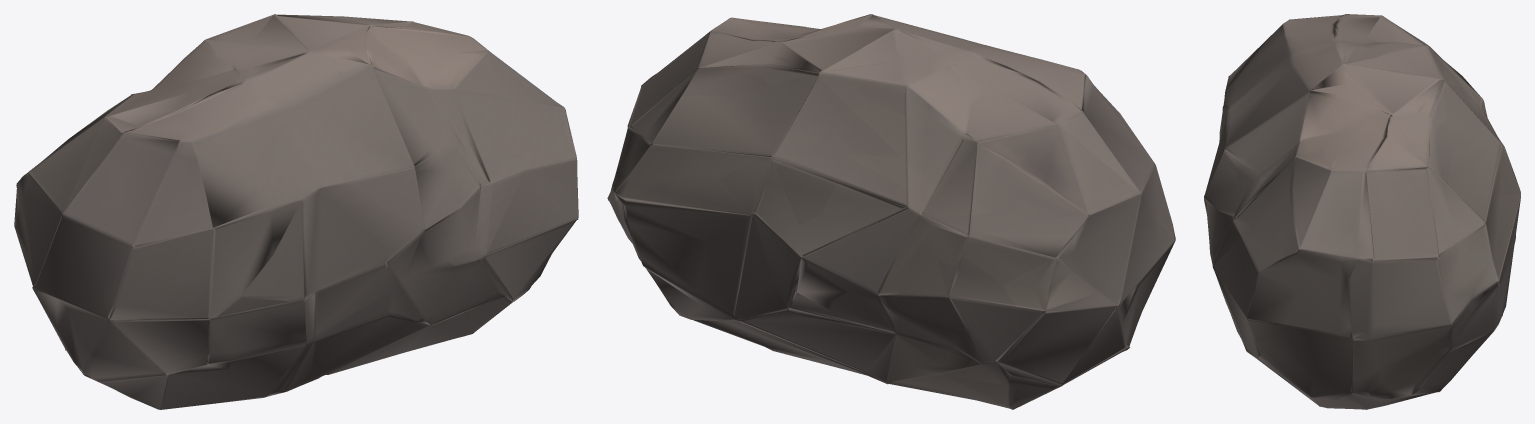
The model's file is Meshy_AI_Faceted_Stone_1022041517_texture.fbx.
3 views of the same model, side by side, from view 1: azimuth 30°, elevation 25°; view 2: azimuth 150°, elevation 25°; view 3: azimuth 270°, elevation 25° (orthographic). The views are drawn at different scales.
Visible parts, largest first — view 1: Mesh_0; view 2: Mesh_0; view 3: Mesh_0.
Boxes of the visible parts, box(x1,y1,x2,y2) form: Mesh_0: box(14, 14, 578, 409); Mesh_0: box(607, 14, 1175, 409); Mesh_0: box(1204, 14, 1520, 409).
Bounding box in the file's own units: 19.25 × 12 × 12.07.
1 material, 1 textured.
